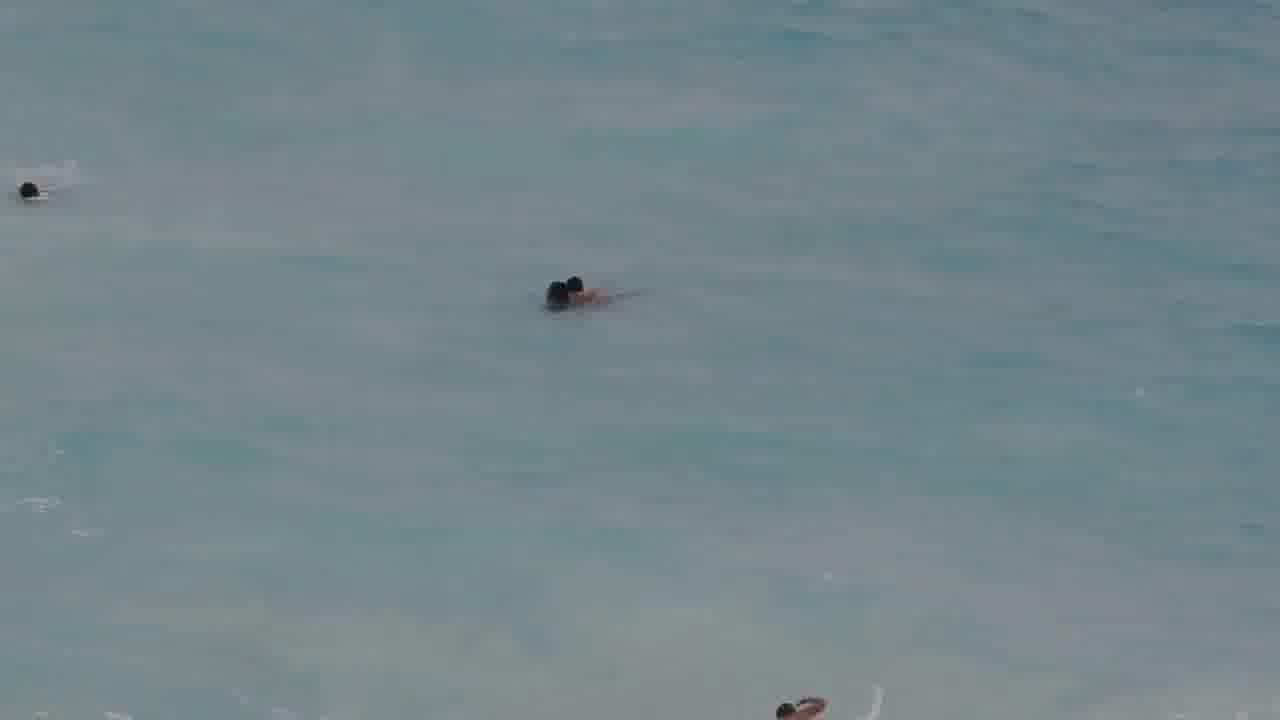human: (563, 263, 620, 305), (762, 692, 831, 719), (530, 279, 580, 314), (13, 173, 54, 205)
